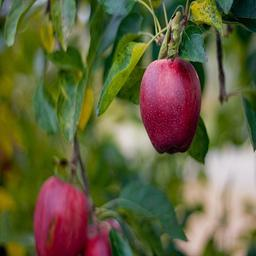apple: (139, 57, 201, 153), (35, 174, 90, 256)
